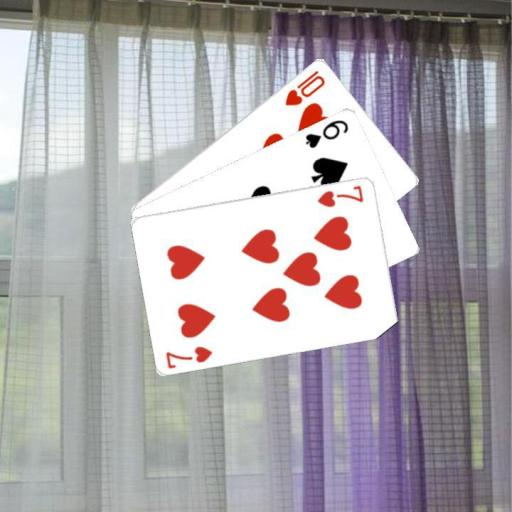10H: (282, 67, 327, 107)
6S: (302, 116, 351, 149)
7H: (162, 343, 214, 370), (315, 182, 366, 209)
